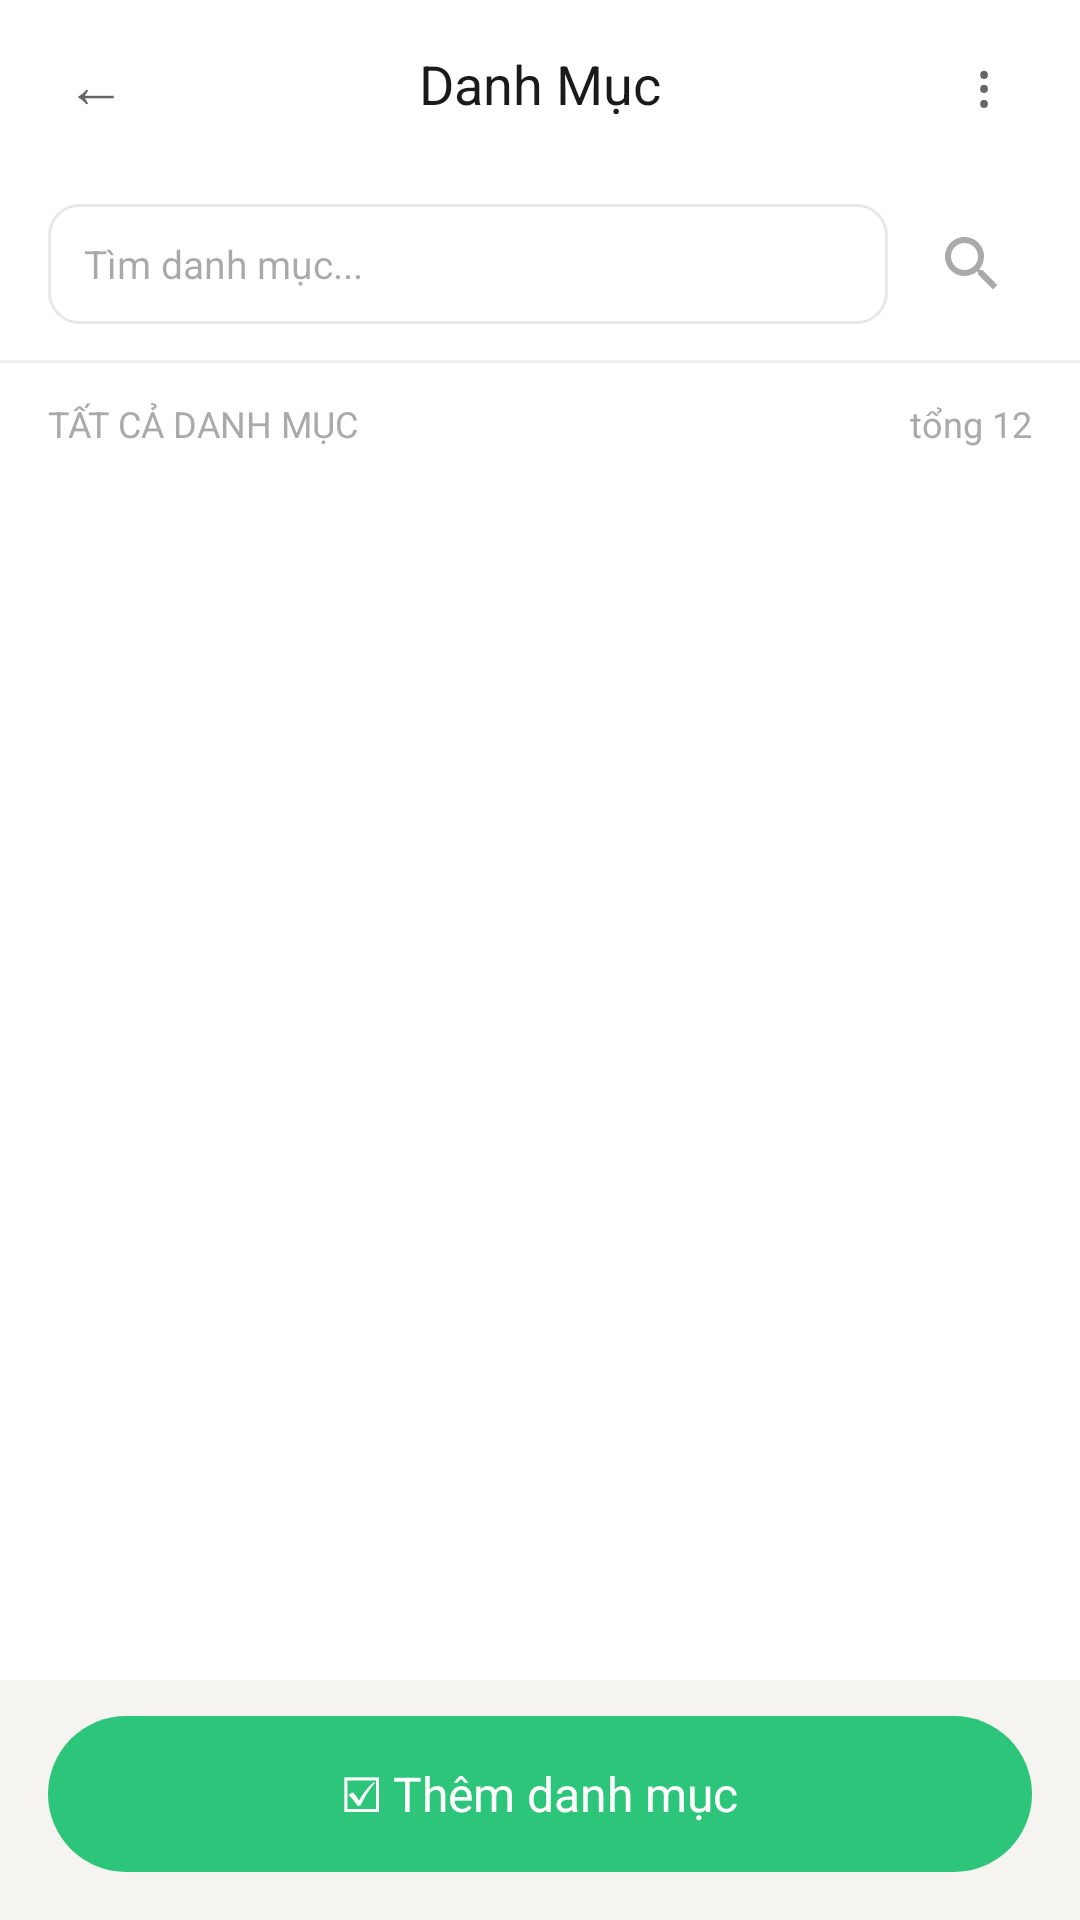

Named icons in this screenshot (1080 × 1920) and their centers, (x=x, y=y):
Search: (x=971, y=263)
